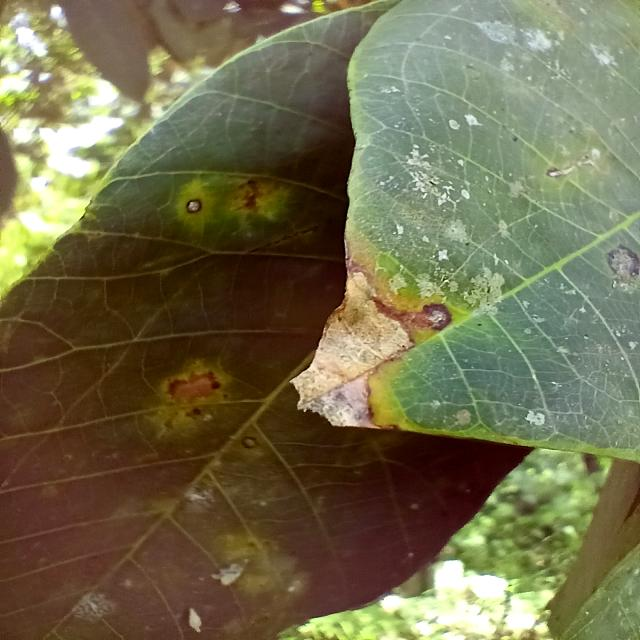Colletotrichum: (606, 246, 640, 278), (420, 303, 454, 332), (237, 434, 263, 450), (184, 196, 204, 216)
Leaf-Blight: (288, 270, 416, 430)
